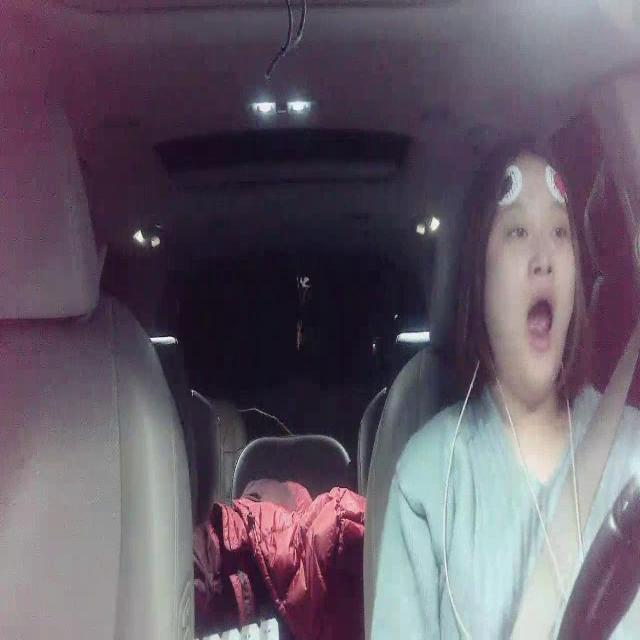Attentive: (476, 131, 583, 395)
Yawning: (522, 290, 564, 353)
